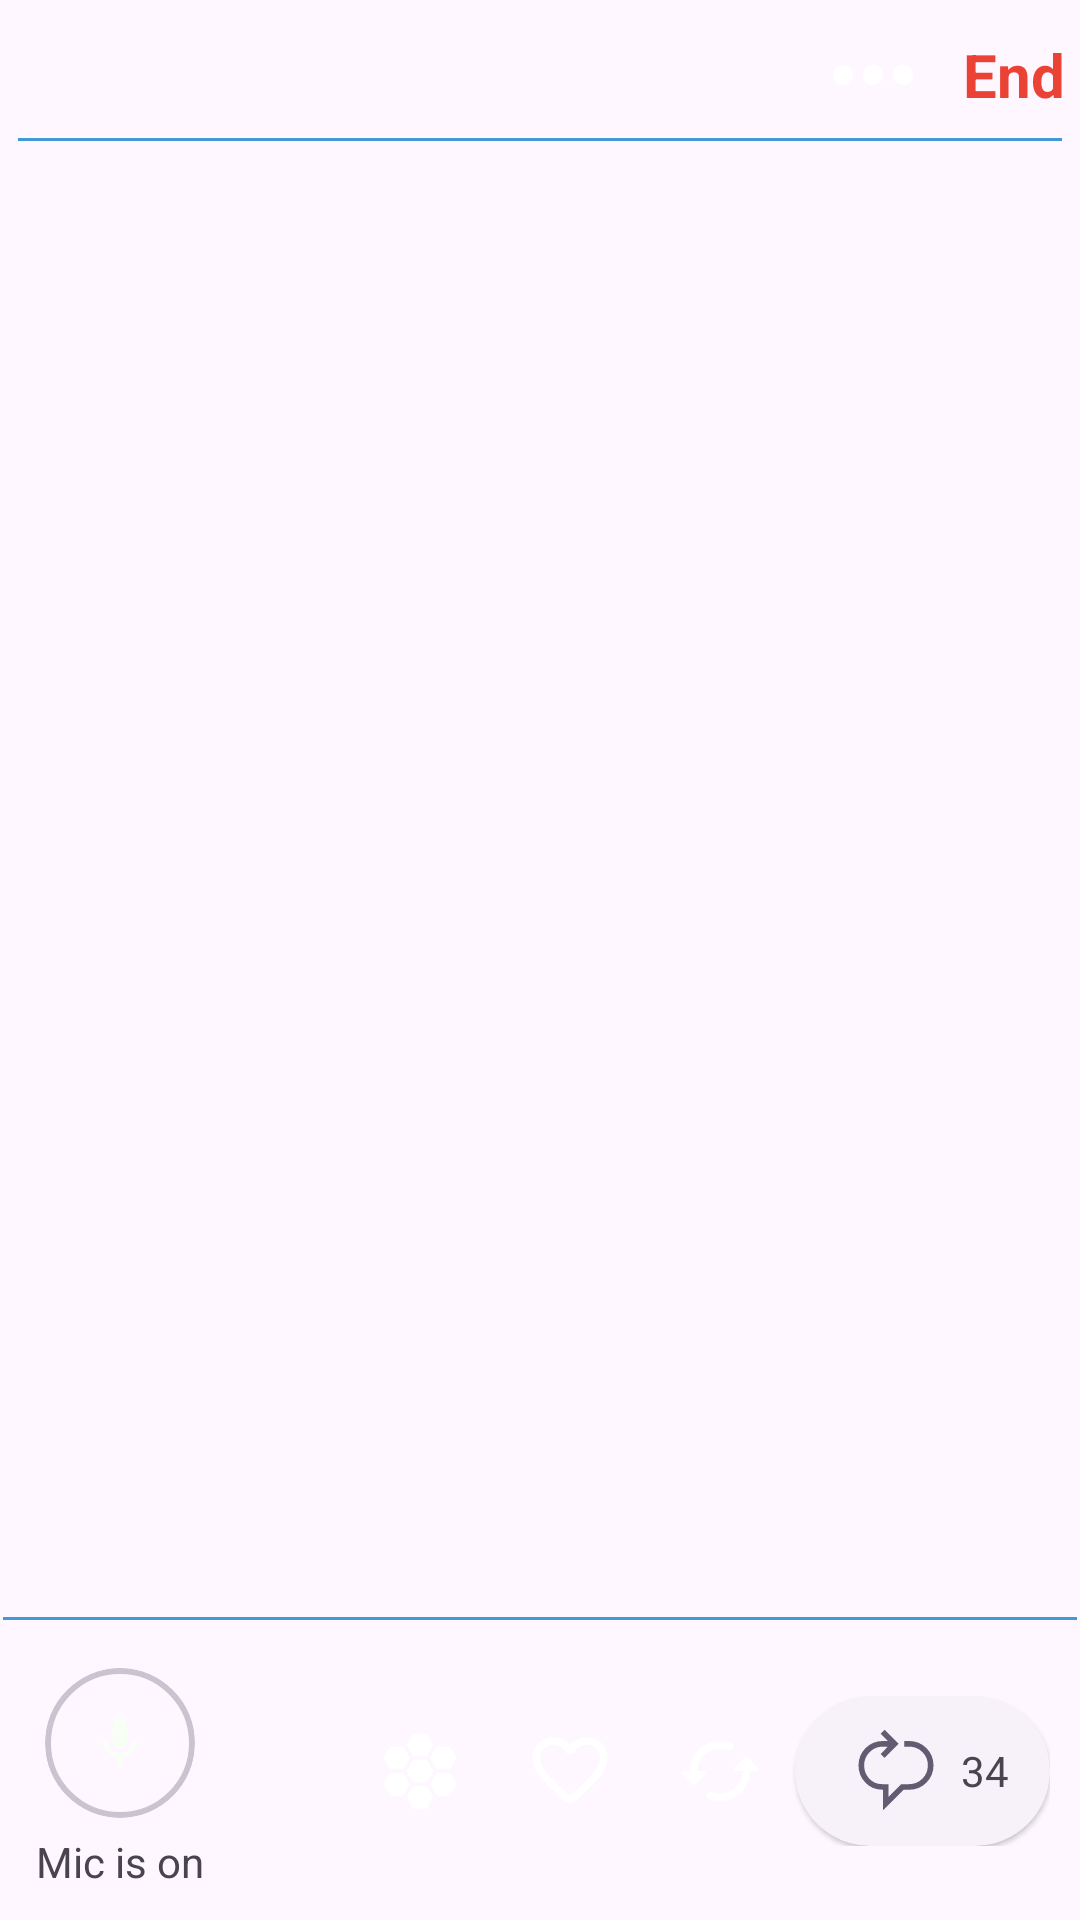

Screen size 1080 x 1920. Icon name, then its center in pixels as point (x, y):
message: point (877, 1788)
voice: point (120, 1743)
